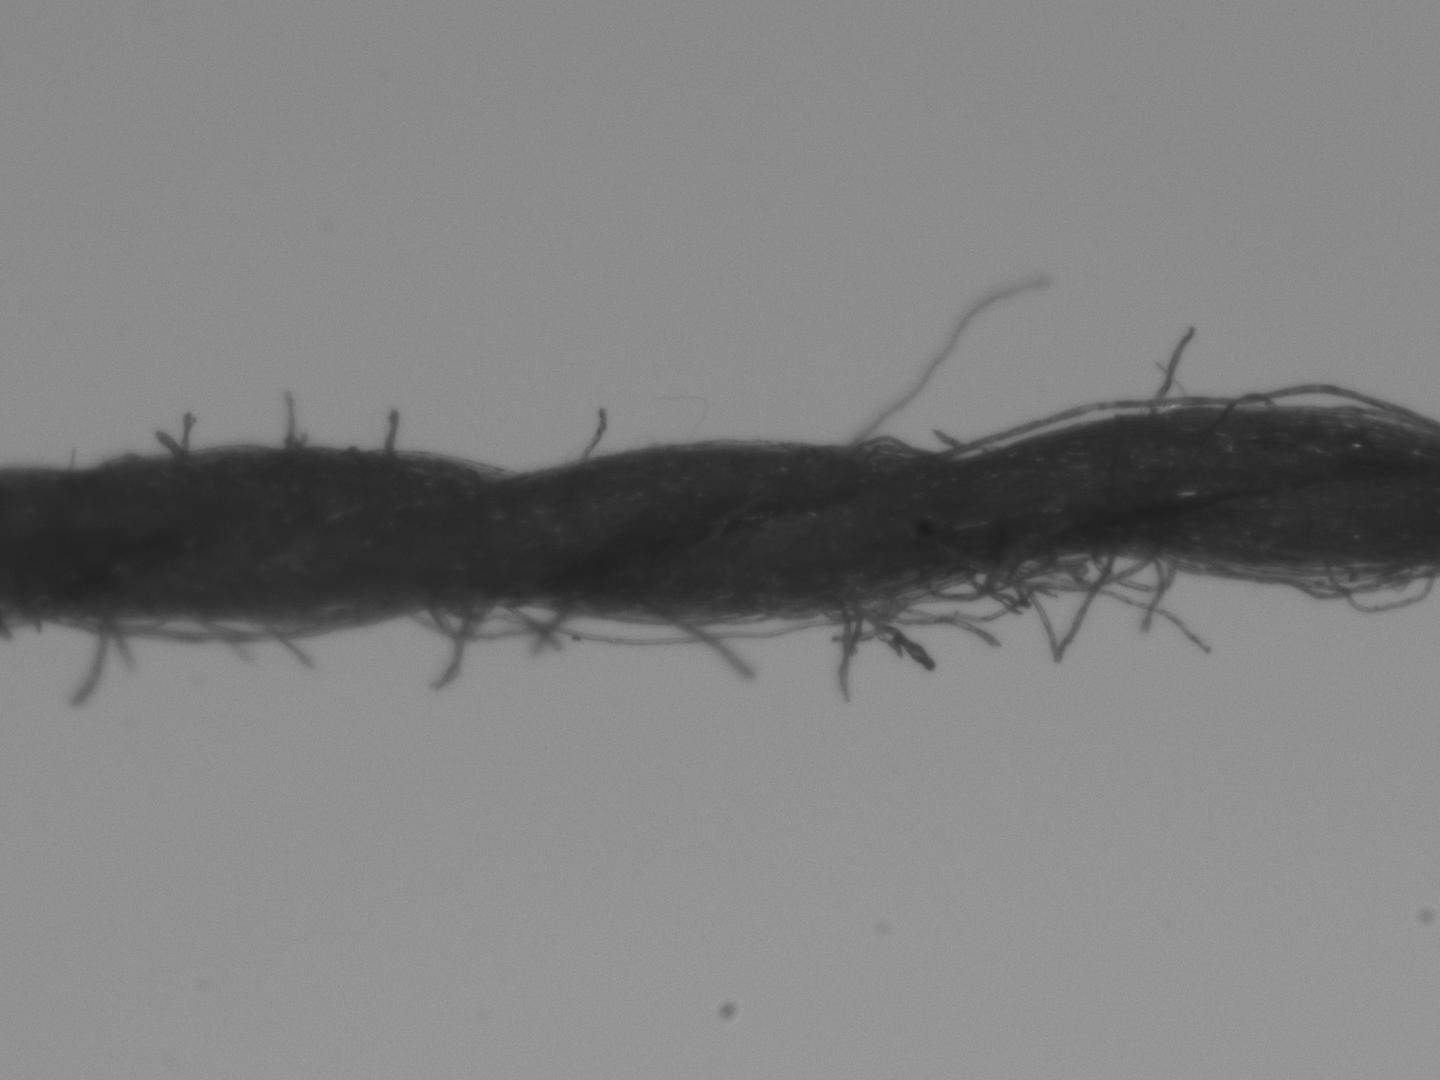loop_fiber: (931, 381, 1397, 464), (522, 596, 884, 643), (46, 611, 342, 640), (921, 545, 1051, 594), (424, 604, 567, 643), (1087, 545, 1177, 592), (1330, 571, 1426, 611)
protruding_fiber: (844, 271, 1056, 446), (1152, 323, 1203, 413), (67, 622, 109, 711), (579, 406, 607, 465), (384, 406, 398, 456)
